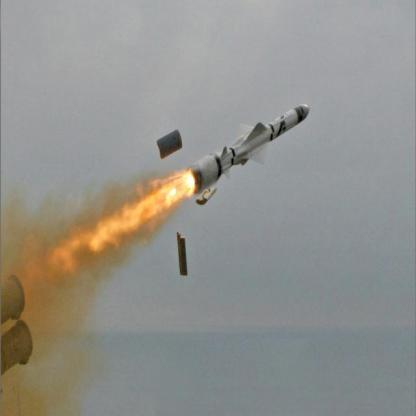MIL_TBM: (176, 93, 312, 207)
